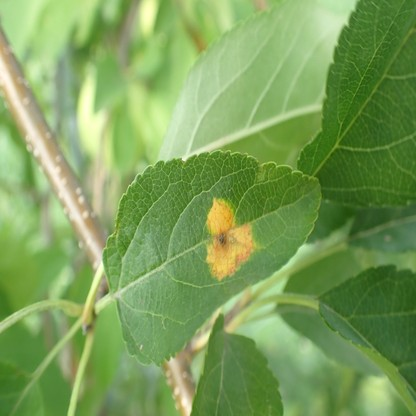rust: (205, 199, 256, 276)
